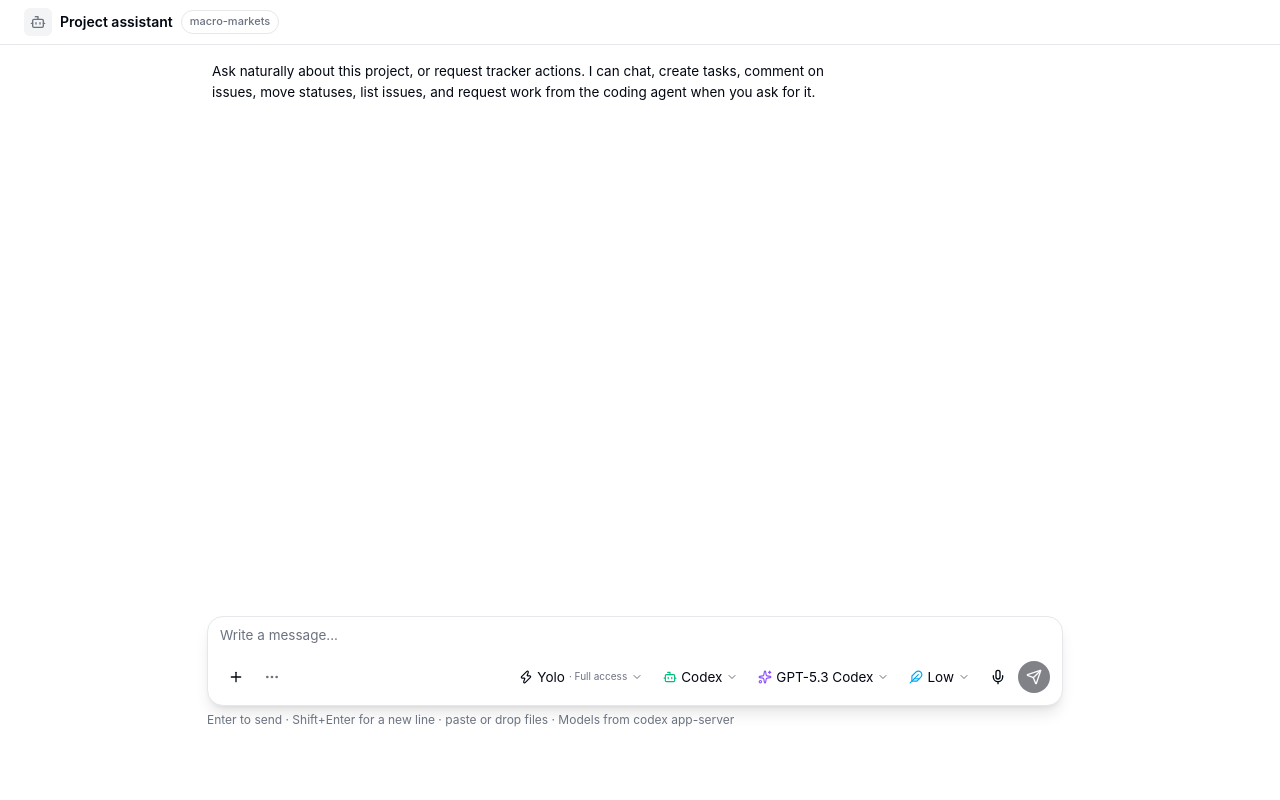
Test: ProjectAssistantPanel › opens an overlay and streams the answer when /btw is submitted
In the text box with placeholder "Write a message...": (635, 639) [208,617,1062,661], type "/btw what is useMemo"
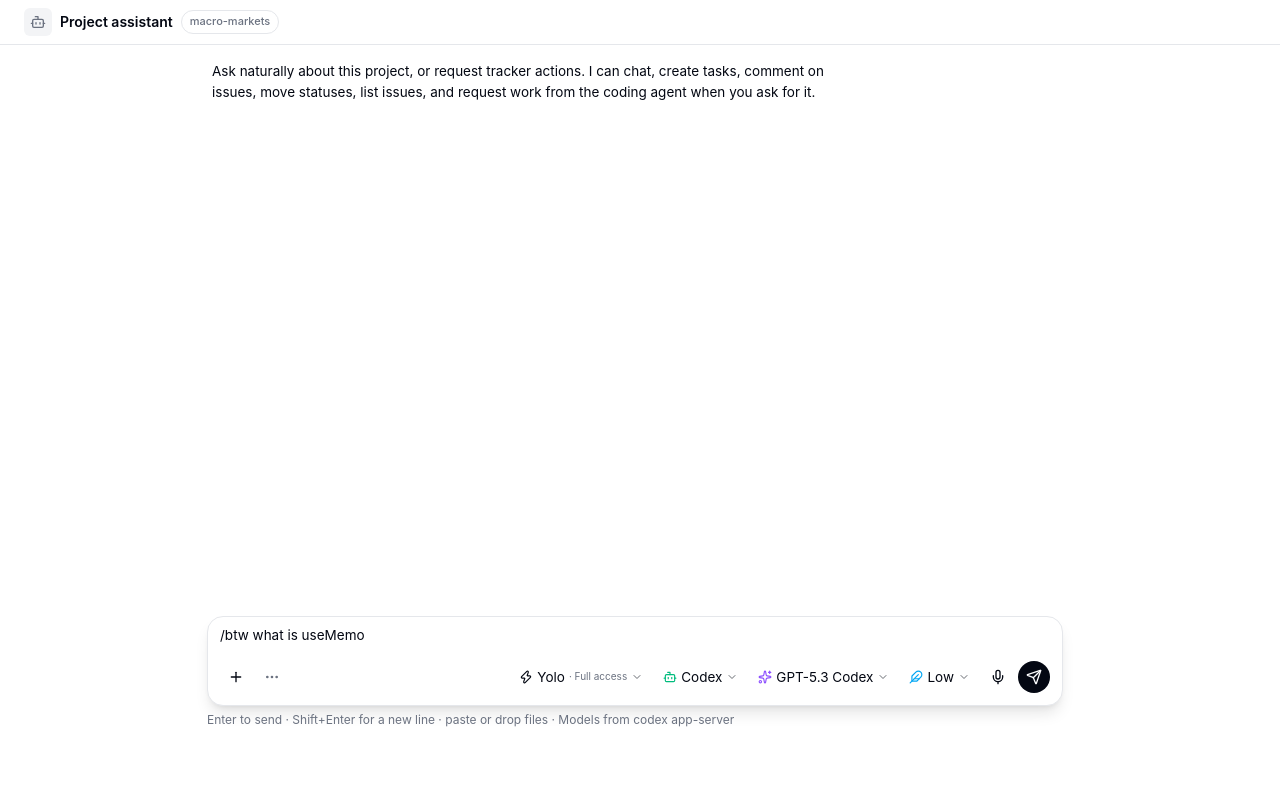
Press Enter in the text box with placeholder "Write a message...", box [208,617,1062,661]
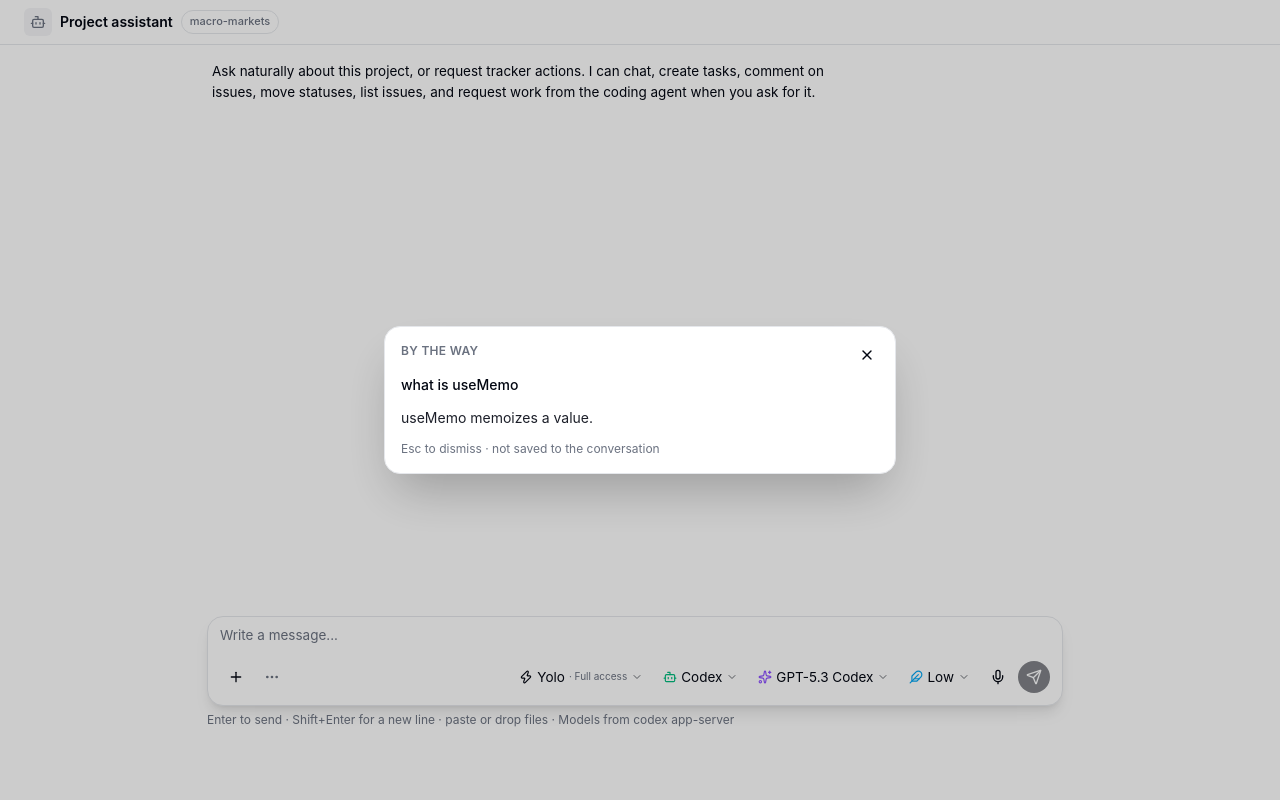
Now the text "useMemo memoizes a value." is shown, box [401,409,593,426]
